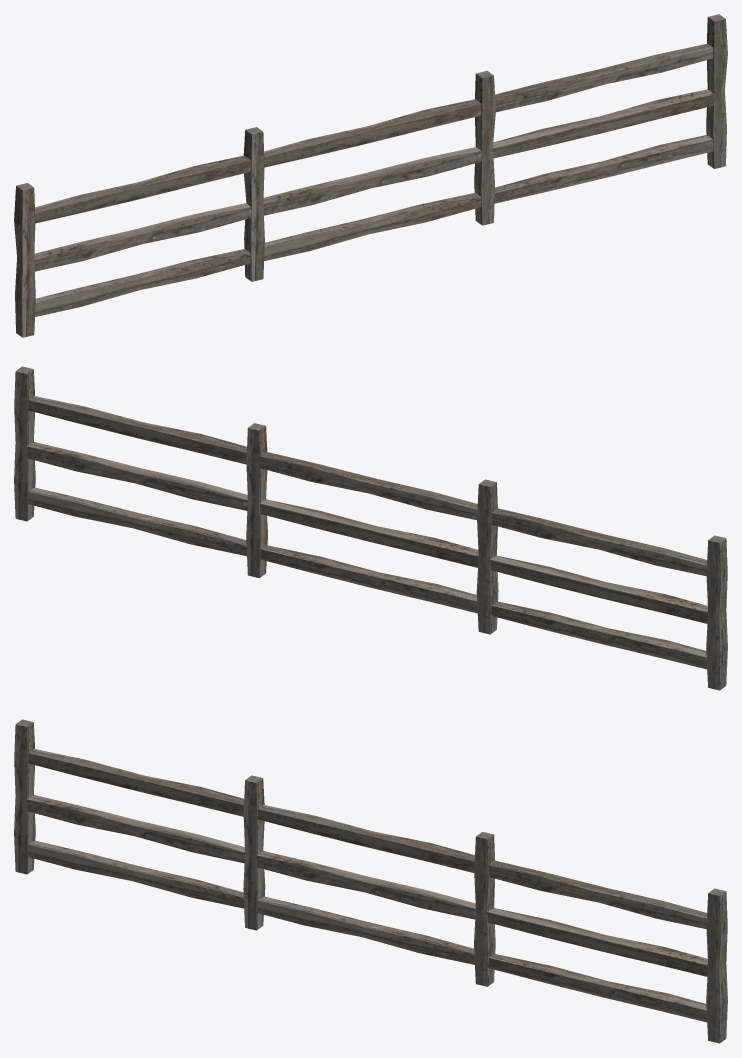
File: fence2.fbx
The picture shows the model from 3 angles, top to bottom: view 1: azimuth 30°, elevation 25°; view 2: azimuth 150°, elevation 25°; view 3: azimuth 330°, elevation 25°; orthographic projection.
Visible parts, largest first — view 1: Cube.011, Cube.009, Cube.007, Cube.010, Cube.006, Cube.003, Cube.005, Cube.002, Cube.001, Cube, Cube.012, Cube.004 (+1 smaller); view 2: Cube.011, Cube.009, Cube.010, Cube.006, Cube.007, Cube.003, Cube.002, Cube.005, Cube.001, Cube, Cube.004, Cube.012 (+1 smaller); view 3: Cube.011, Cube.007, Cube.010, Cube.003, Cube.005, Cube.009, Cube.006, Cube.001, Cube.002, Cube.008, Cube.012, Cube.004 (+1 smaller).
Boxes of the visible parts, x1,y1,x2,y2 form: Cube.011: (493,89,713,158); Cube.009: (494,135,713,203); Cube.007: (263,147,481,215); Cube.010: (495,43,713,112); Cube.006: (264,99,481,167); Cube.003: (34,203,251,271); Cube.005: (264,192,481,260); Cube.002: (35,155,250,223); Cube.001: (35,249,250,316); Cube: (14,183,35,337); Cube.012: (474,71,495,225); Cube.004: (243,127,264,281); Cube.011: (27,442,247,510); Cube.009: (27,487,246,556); Cube.010: (28,396,246,464); Cube.006: (260,452,477,519); Cube.007: (260,499,478,567); Cube.003: (490,555,707,623); Cube.002: (491,508,707,575); Cube.005: (260,545,477,613); Cube.001: (491,601,707,669); Cube: (706,535,727,690); Cube.004: (476,479,498,634); Cube.012: (246,423,267,578); Cube.011: (487,908,707,976); Cube.007: (256,851,475,919); Cube.010: (488,860,707,928); Cube.003: (27,795,244,863); Cube.005: (257,896,474,964); Cube.009: (488,954,707,1022); Cube.006: (257,805,474,872); Cube.001: (27,840,244,908); Cube.002: (28,749,244,816); Cube.008: (706,888,727,1043); Cube.012: (474,831,495,986); Cube.004: (243,775,265,930).
Bounding box in the file's own units: 954 × 190 × 19.62.
